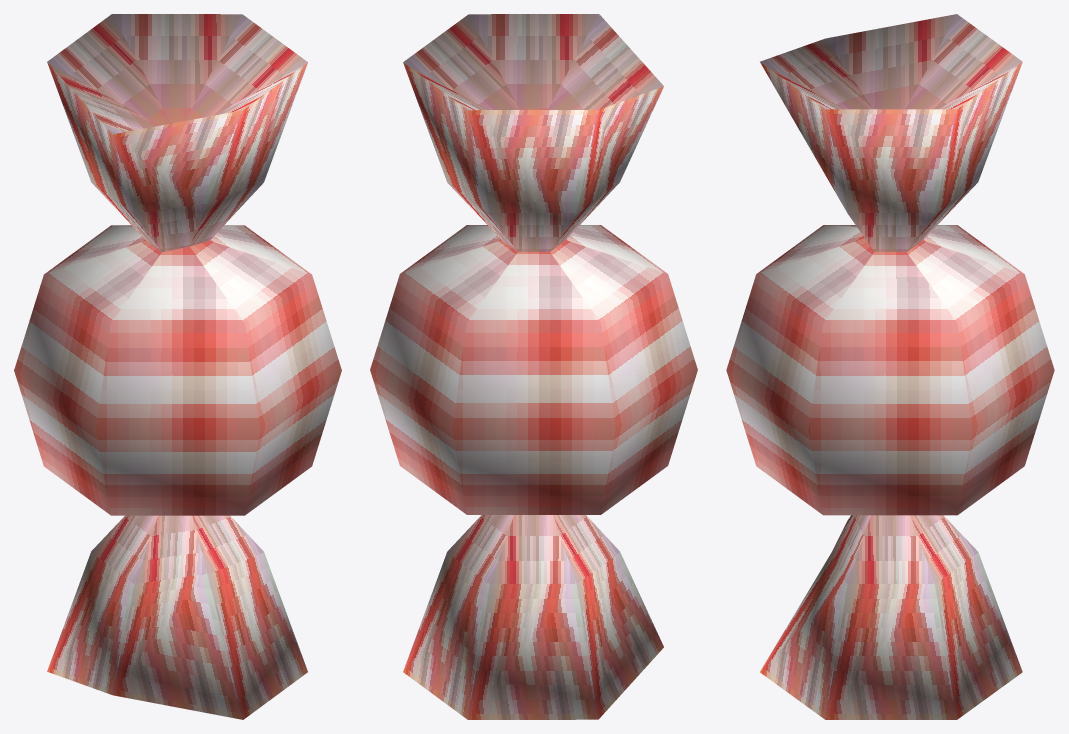
Rendered from hcandyred.glb.
The picture shows the model from 3 angles, left to right: view 1: azimuth 30°, elevation 25°; view 2: azimuth 150°, elevation 25°; view 3: azimuth 270°, elevation 25°; orthographic projection.
Parts seen in each view (by area): view 1: model_hcandyred; view 2: model_hcandyred; view 3: model_hcandyred.
Part boxes in pixels (left/top/right/bottom): model_hcandyred: left=14, top=14, right=341, bottom=719; model_hcandyred: left=370, top=14, right=697, bottom=719; model_hcandyred: left=726, top=14, right=1054, bottom=719.
Size of the model in its own units: 0.1435 by 0.3399 by 0.1657.
Materials: 1 (1 with a texture image).
